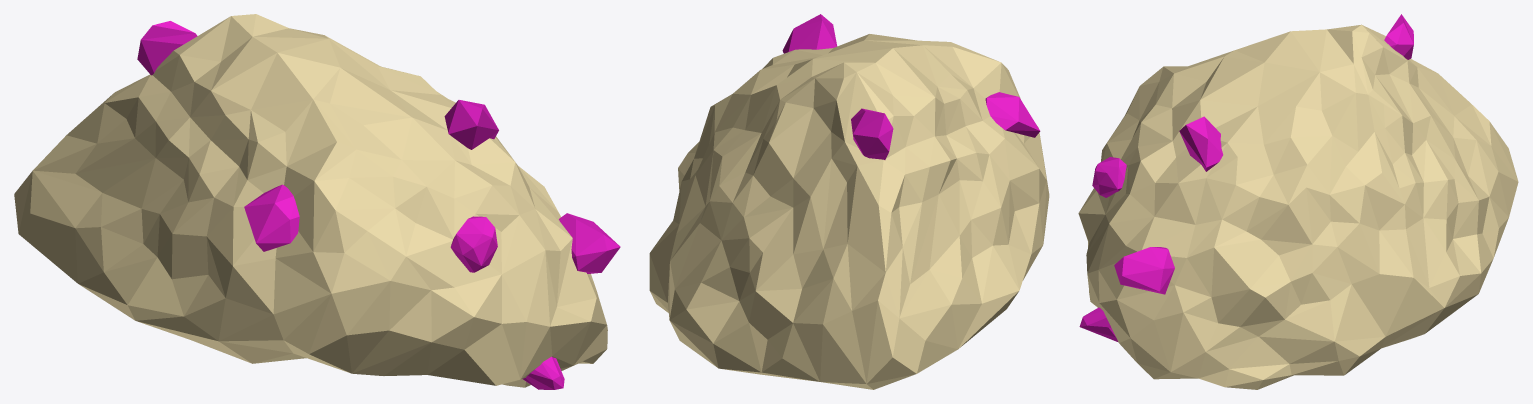
The model's file is CrystalOre (29).fbx.
3 views of the same model, side by side, from view 1: azimuth 30°, elevation 25°; view 2: azimuth 150°, elevation 25°; view 3: azimuth 270°, elevation 25° (orthographic). The views are drawn at different scales.
Visible parts, largest first — view 1: Asteroid249; view 2: Asteroid249; view 3: Asteroid249.
Part boxes in pixels (x1,y1,x2,y2): Asteroid249: (14, 14, 620, 389); Asteroid249: (649, 14, 1049, 389); Asteroid249: (1078, 14, 1518, 389).
Size of the model in its own units: 530 by 418 by 605.
